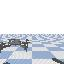drone: (0, 39, 30, 53)
